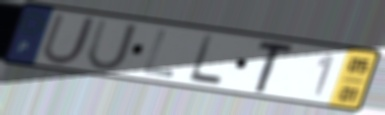1: (312, 54, 337, 98)
L: (186, 32, 226, 88), (140, 28, 176, 80)
T: (252, 41, 298, 95)
U: (38, 11, 99, 67), (83, 17, 140, 73)
